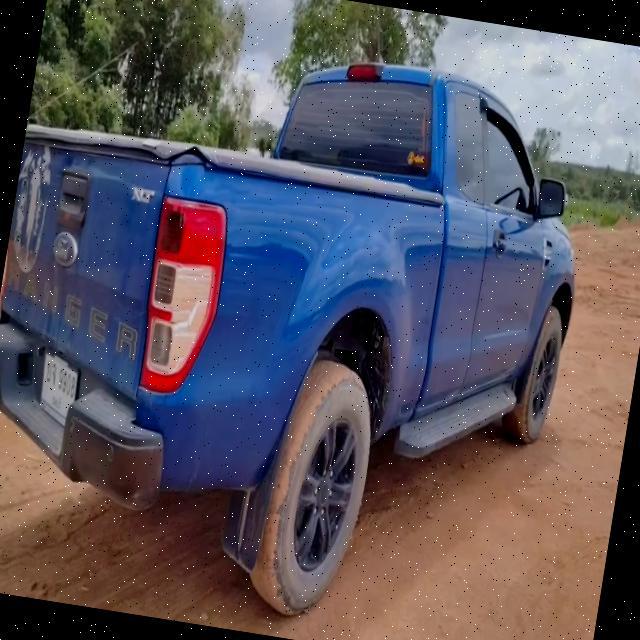Digit: (54, 364, 78, 400)
Licenseplate: (38, 346, 81, 430)
Provincename: (48, 390, 64, 412)
Thaichar: (43, 356, 59, 386)
